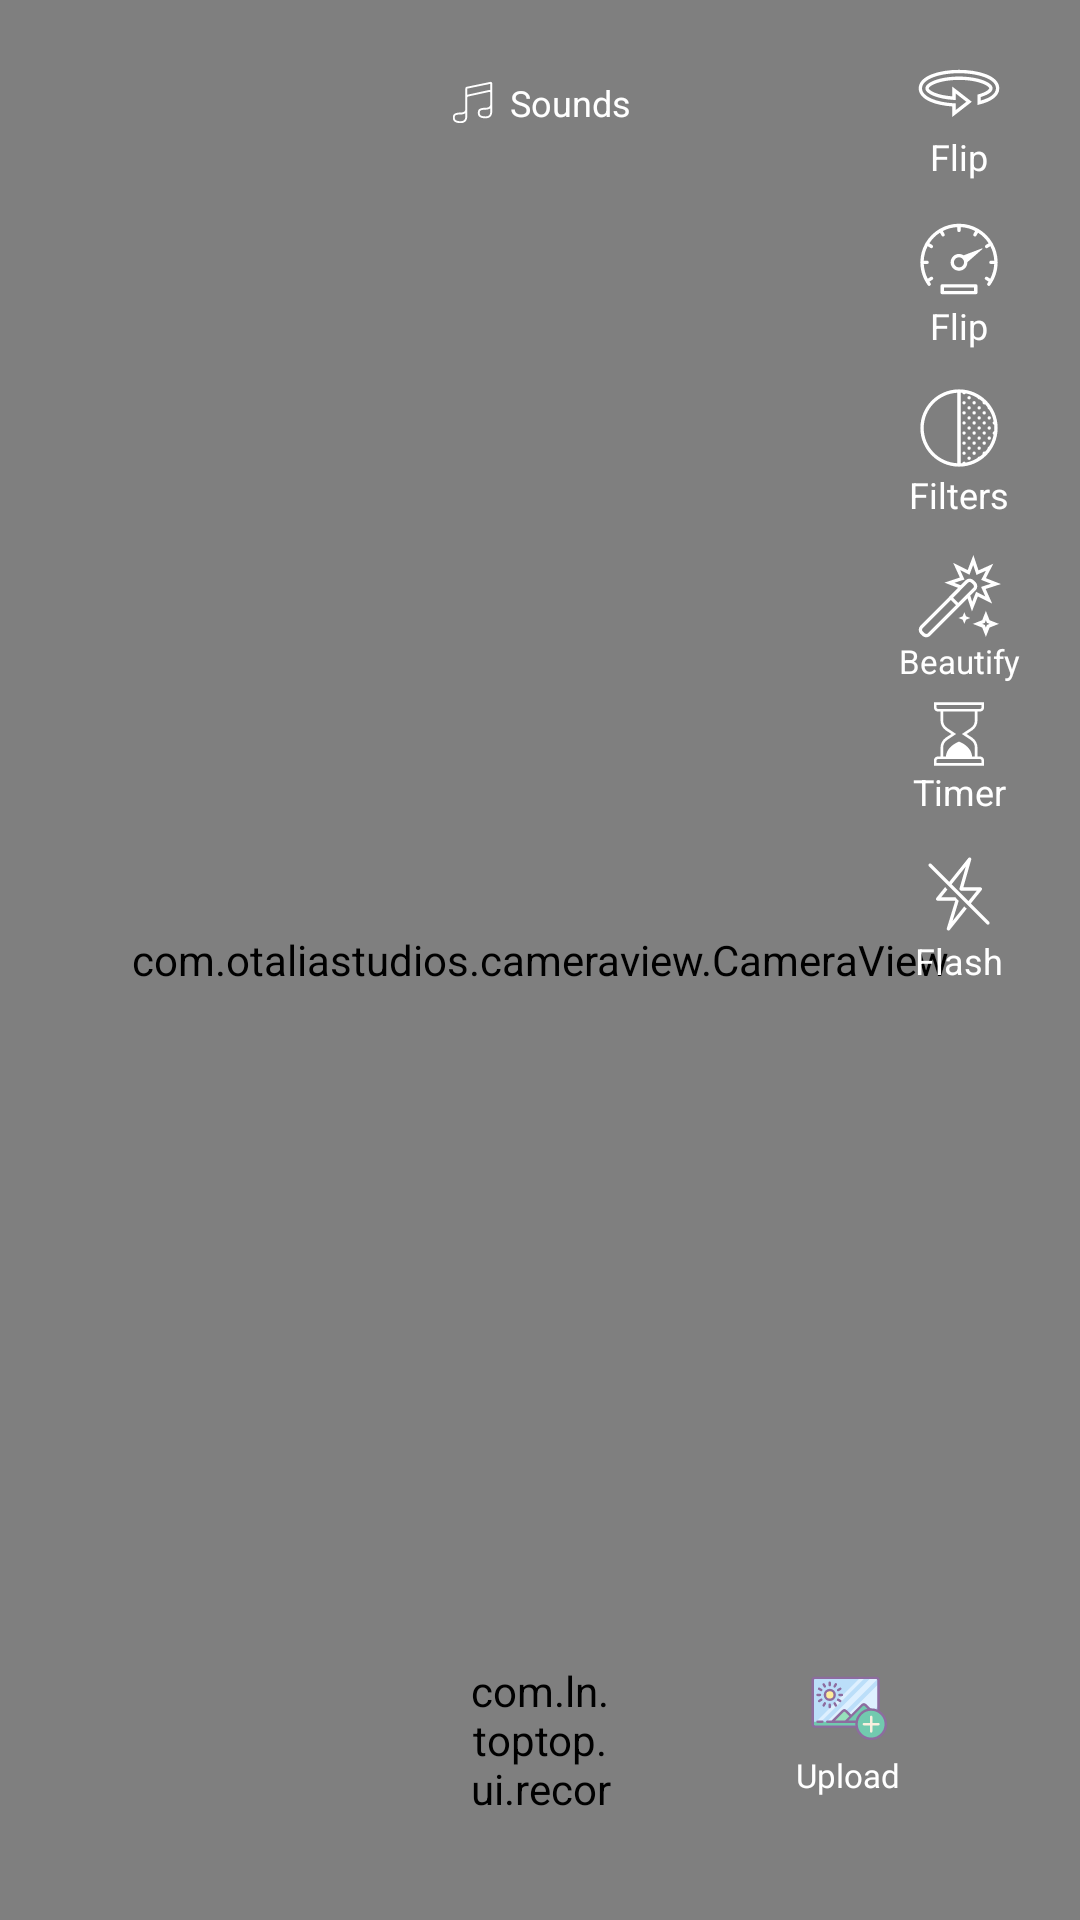

Screen size 1080w x 1920h. Icon name, then its box in pixels as [x1, y1, x2, y2]:
speed: [920, 223, 998, 295]
